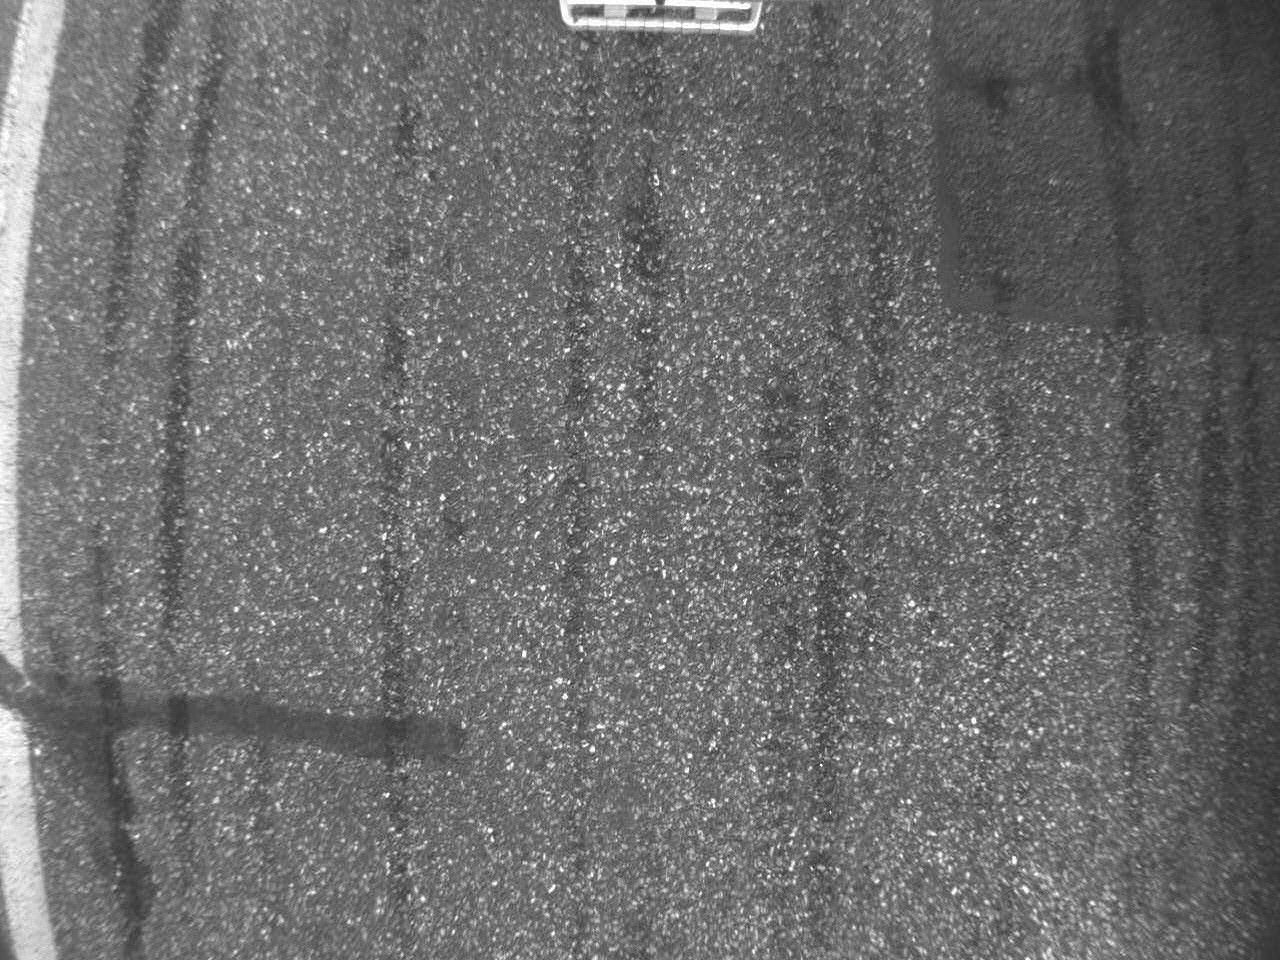sealed: (1, 645, 471, 782)
